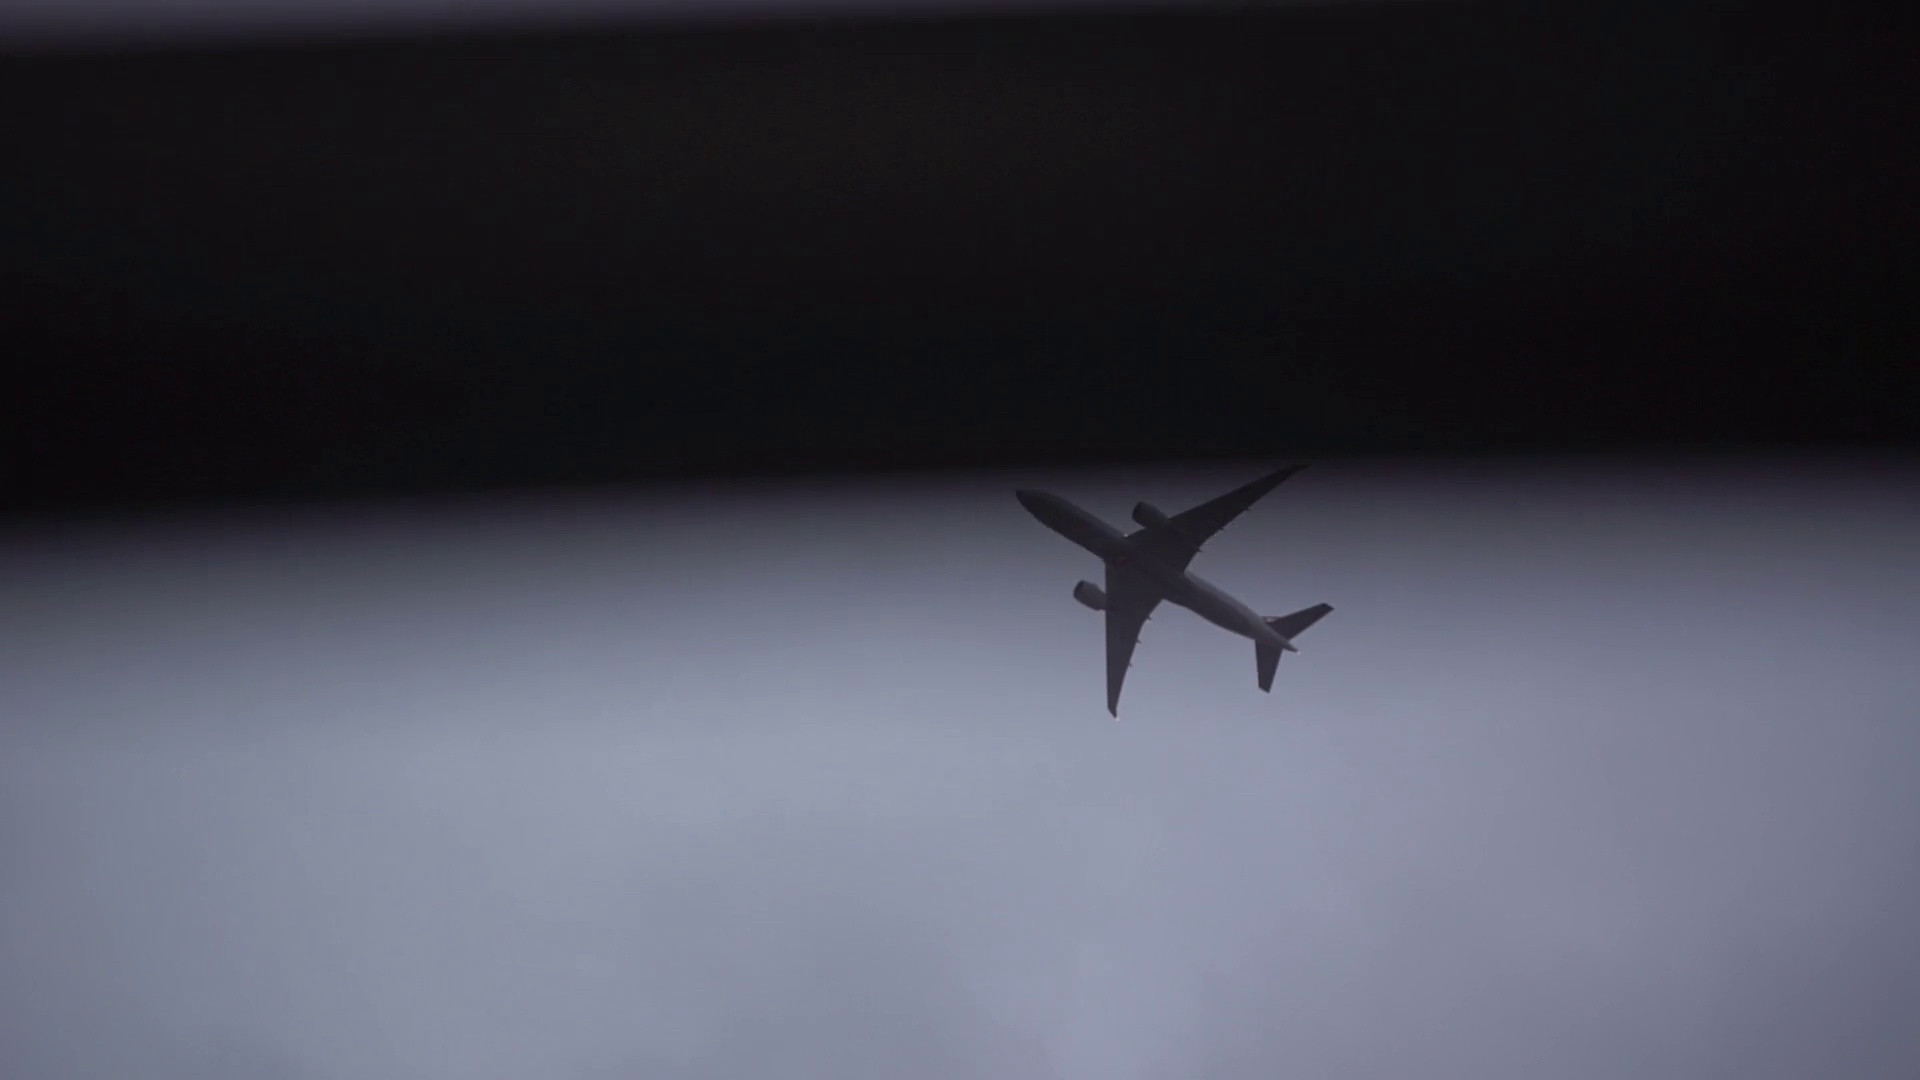plane: (1013, 463, 1333, 720)
